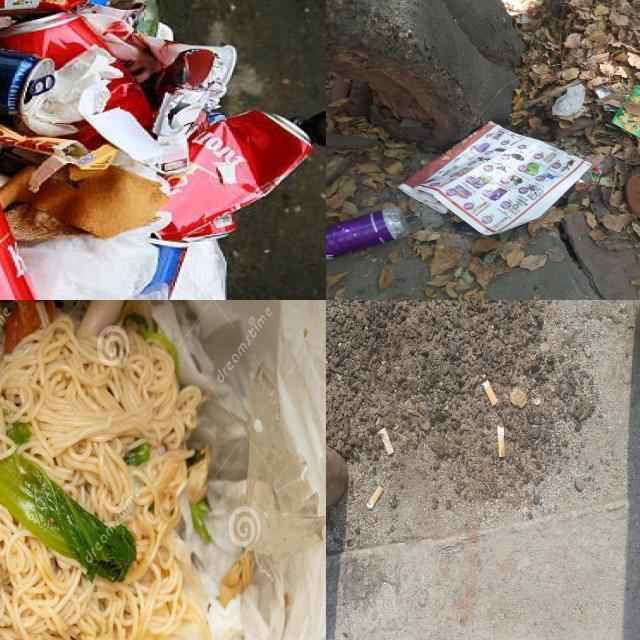Background: (326, 300, 640, 560)
Cig_bud: (366, 485, 384, 510), (379, 428, 394, 456), (482, 380, 498, 406), (497, 425, 505, 458)
Garbage: (326, 0, 640, 300), (0, 300, 212, 640)
Plastic_Bag: (219, 554, 253, 604)
Plastic_bottle: (326, 208, 410, 261)
Plastic_wraper: (595, 87, 623, 112), (626, 86, 640, 104)
can: (158, 111, 310, 240), (0, 13, 107, 68), (105, 60, 154, 131)
